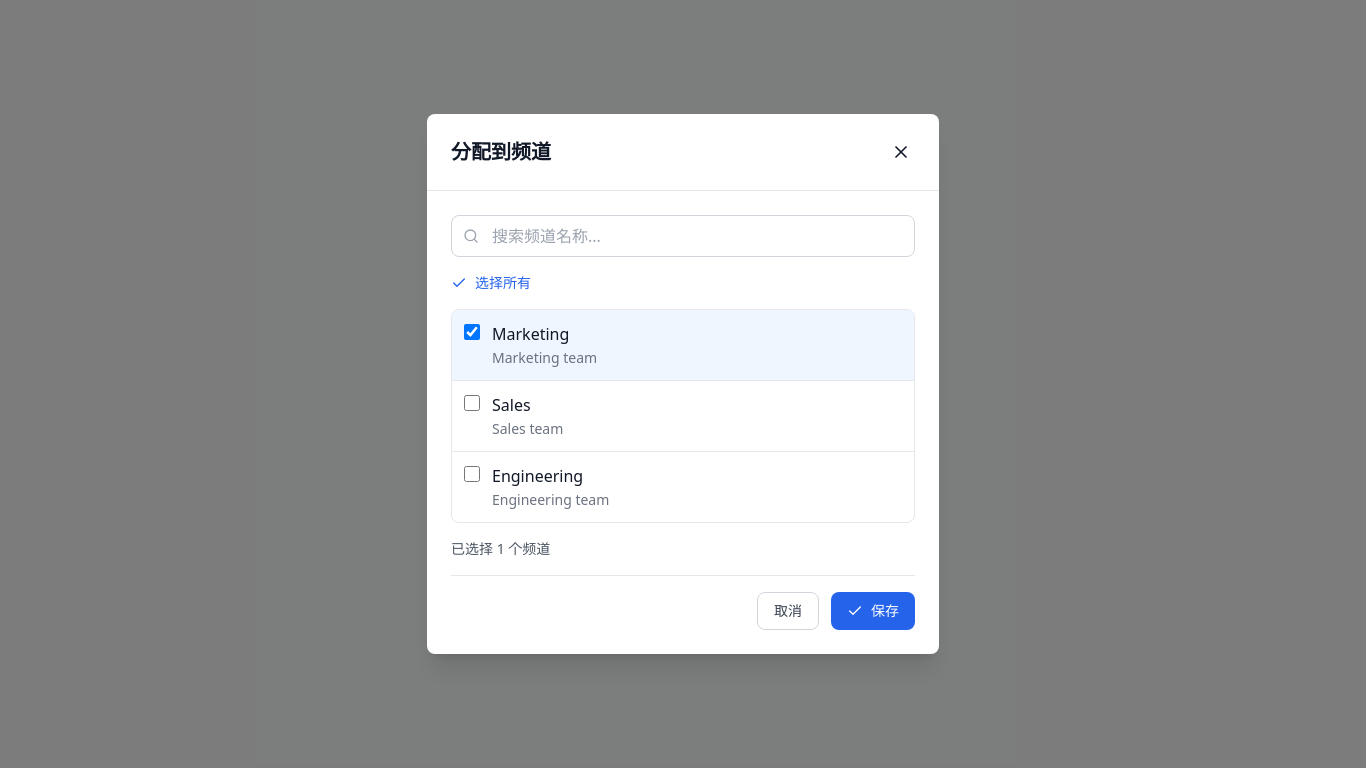
ChannelAssignModal › Search Functionality › 検索結果が空の場合はメッセージが表示される
This screenshot has width=1366, height=768.
Expected: the text "Marketing" is shown, [492,323,569,345]
Type "NonExistentChannel" into the field with placeholder "搜索频道名称..." at (683, 236), box [451,215,915,257]
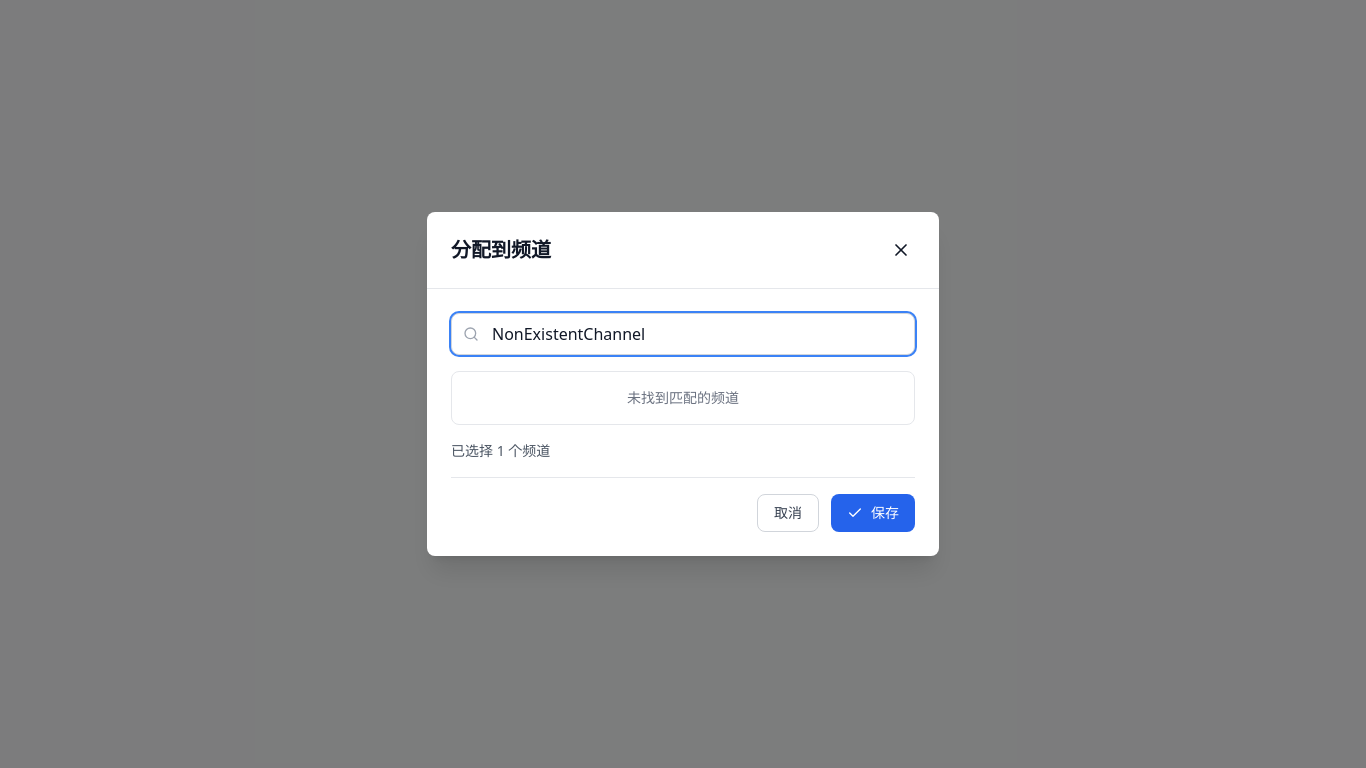
Now the text "未找到匹配的频道" is shown, box [627,388,739,407]
